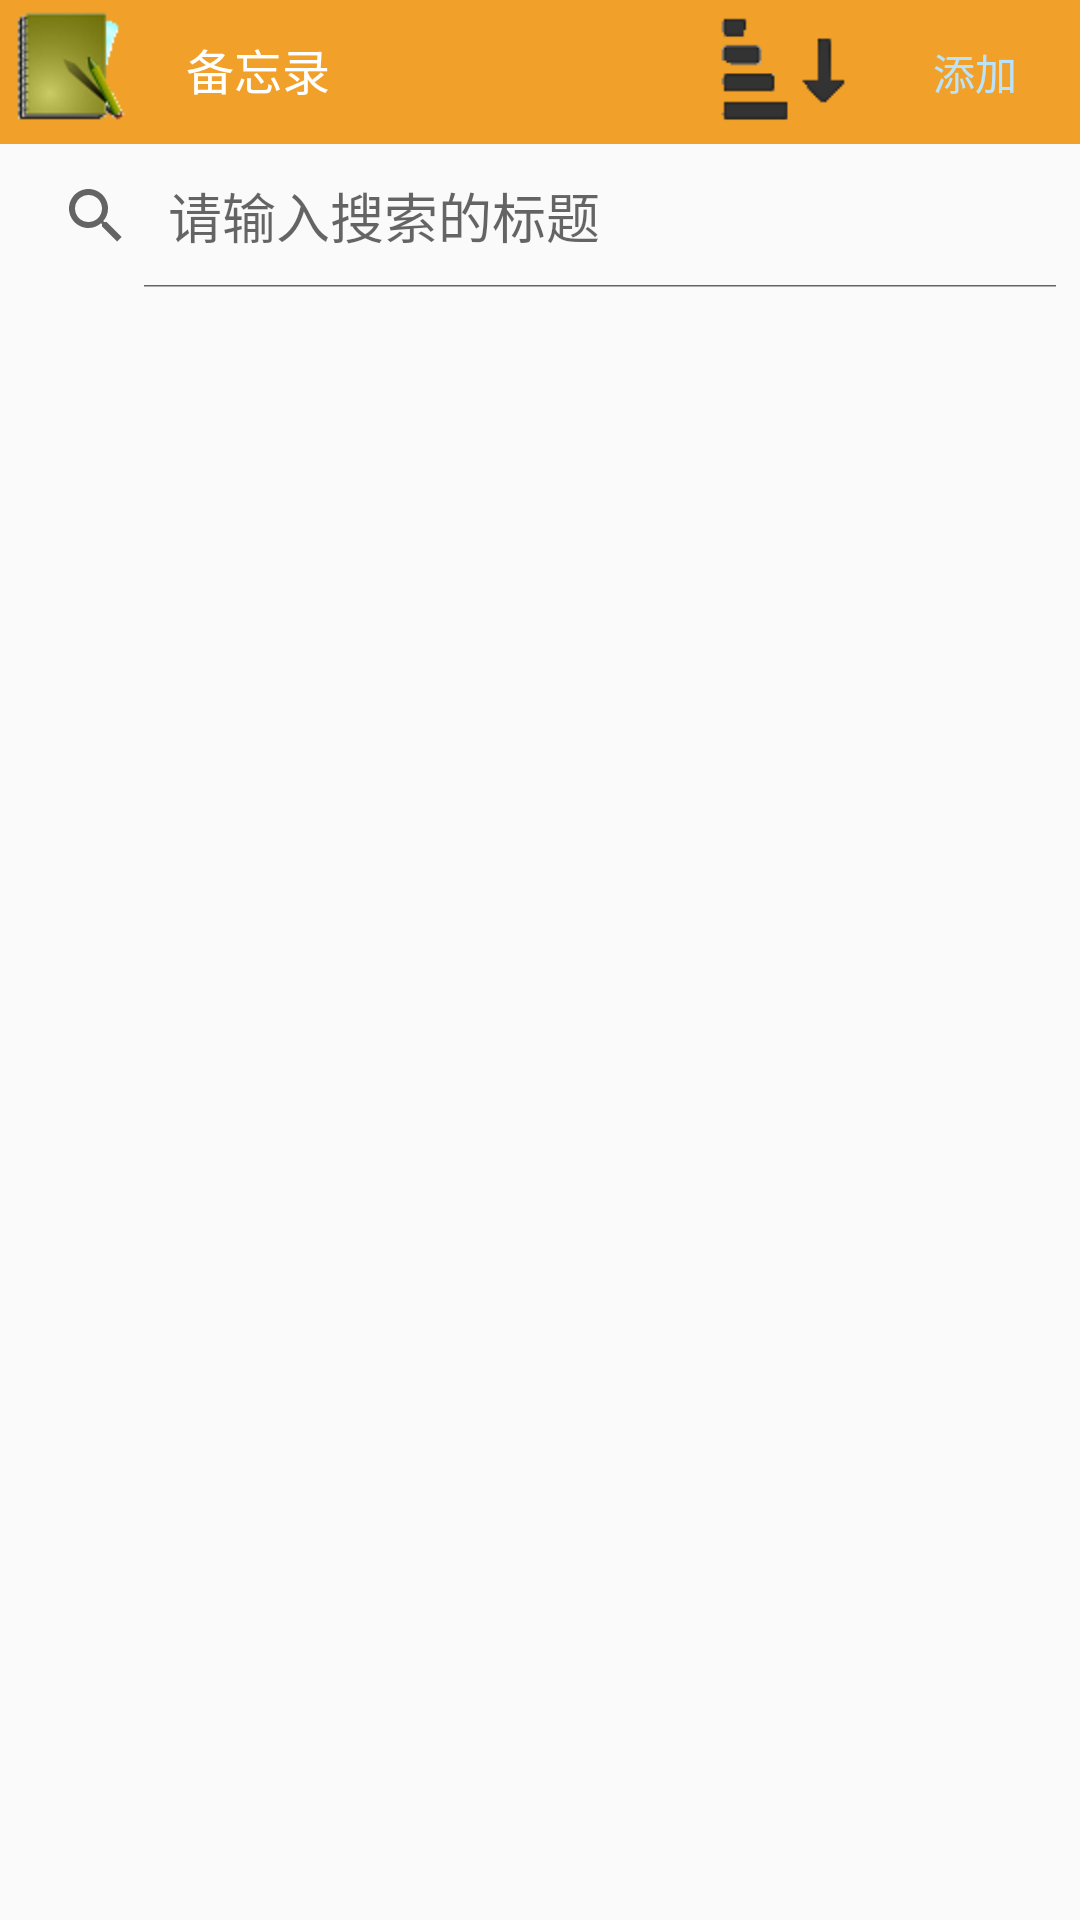

Point at icon controls on the screen. Image size 1080 x 1920, points as point (x, y).
sort: point (783, 69)
